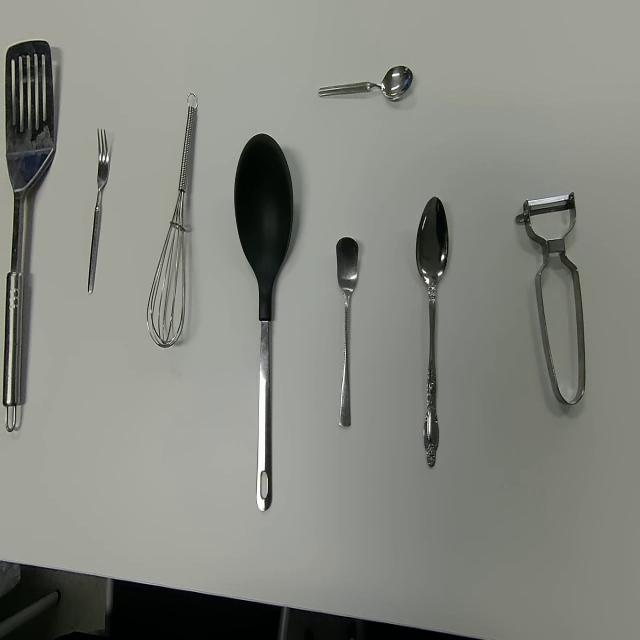Desert-Spoon: (415, 194, 449, 468)
Dinner-Fork: (86, 124, 110, 296)
Peeler: (515, 189, 586, 407)
Serving-Spoon: (233, 132, 294, 514), (0, 39, 54, 434)
Tea-Spoon: (335, 234, 359, 430), (318, 62, 414, 101)
Whisk: (146, 90, 198, 349)
